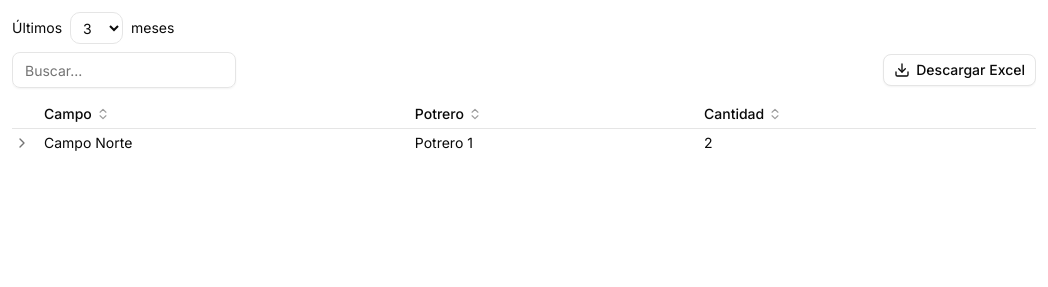
HealthByPlaceTable › expands a group to list its individual health events
This screenshot has width=1048, height=287.
Click the button named "expandir": click(22, 143) top-left (12, 133), bottom-right (32, 153)
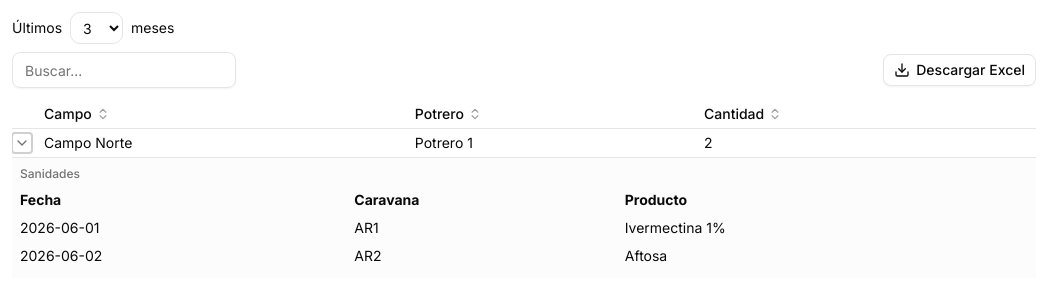
Result: the text "2026-06-01" is shown at top-left (20, 214), bottom-right (354, 242)
Result: the text "AR1" is shown at top-left (354, 214), bottom-right (625, 242)
Result: the text "Ivermectina 1%" is shown at top-left (625, 214), bottom-right (1028, 242)
